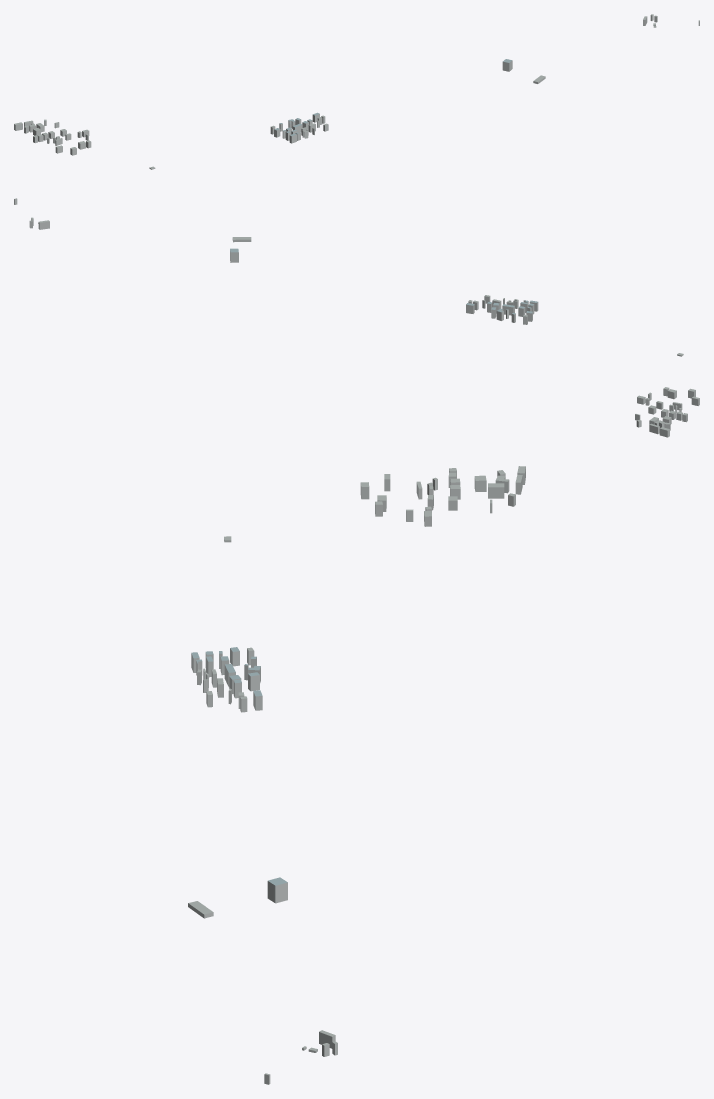
The model's file is far.glb.
3 views of the same model, one above another, from view 1: azimuth 30°, elevation 25°; view 2: azimuth 150°, elevation 25°; view 3: azimuth 270°, elevation 25° (orthographic). The views are drawn at different scales.
Size of the model in its own units: 1639 by 22.3 by 385.
